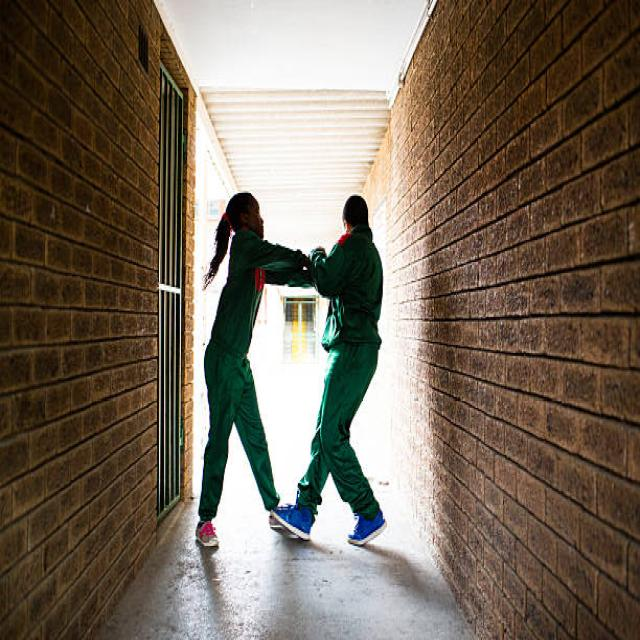fight: (197, 190, 386, 551)
